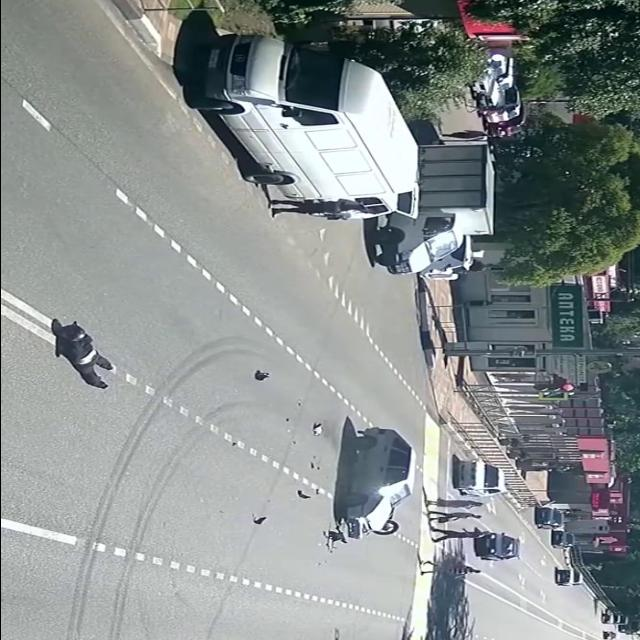accident: (241, 416, 421, 555), (27, 310, 133, 400)
non_accident: (178, 22, 506, 290)
